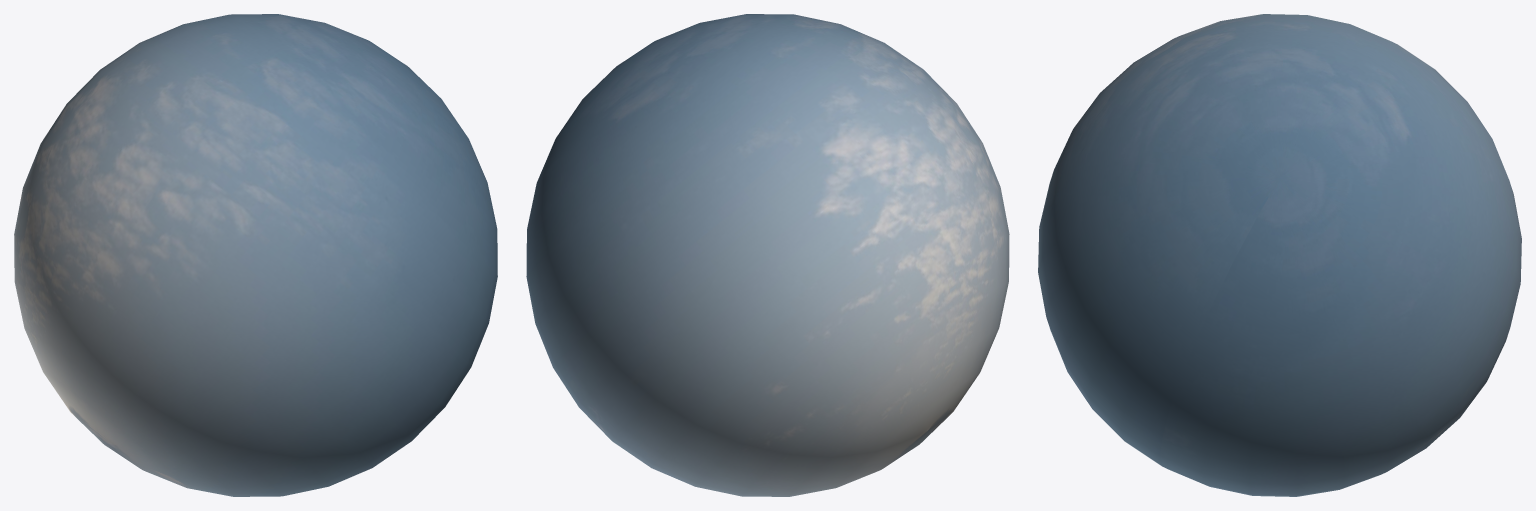
The model's file is banana_plants_free_low_poly_7.glb.
3 views of the same model, side by side, from view 1: azimuth 30°, elevation 25°; view 2: azimuth 150°, elevation 25°; view 3: azimuth 270°, elevation 25° (orthographic).
Parts seen in each view (by area): view 1: Sphere_2; view 2: Sphere_2; view 3: Sphere_2.
Part boxes in pixels (left/top/right/bottom): Sphere_2: left=14, top=14, right=497, bottom=496; Sphere_2: left=526, top=14, right=1009, bottom=496; Sphere_2: left=1038, top=14, right=1521, bottom=496.
Bounding box in the file's own units: 1285 × 1285 × 1284.
7 materials, 7 textured.
